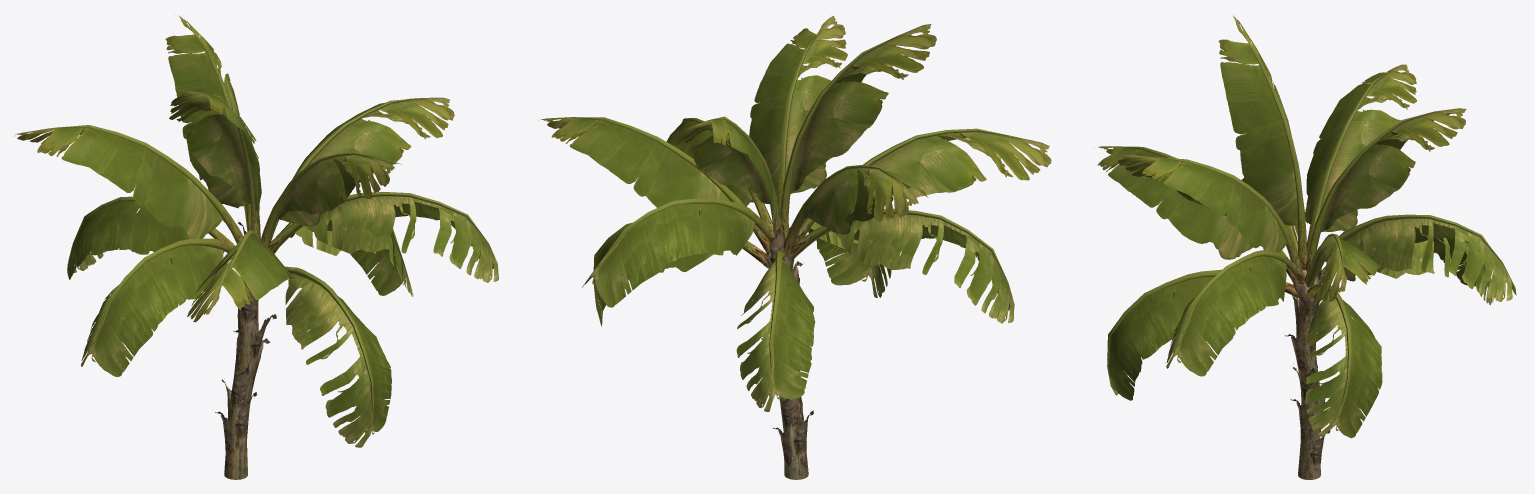
Rendered from tree_banana.glb.
3 renders of one model, left to right at view 1: azimuth 30°, elevation 25°; view 2: azimuth 150°, elevation 25°; view 3: azimuth 270°, elevation 25°, orthographic. The views are drawn at different scales.
Visible parts, largest first — view 1: Tree_1_Tree_1Mat_0, Tree_2_Tree_2Mat_0, Tree_4_Tree_4Mat_0, Tree_3_Tree_3Mat_0, Tree_0_Tree_0Mat_0; view 2: Tree_1_Tree_1Mat_0, Tree_2_Tree_2Mat_0, Tree_4_Tree_4Mat_0, Tree_3_Tree_3Mat_0, Tree_0_Tree_0Mat_0; view 3: Tree_1_Tree_1Mat_0, Tree_2_Tree_2Mat_0, Tree_4_Tree_4Mat_0, Tree_3_Tree_3Mat_0, Tree_0_Tree_0Mat_0.
Part boxes in pixels (left/top/right/bottom): Tree_1_Tree_1Mat_0: left=14, top=15, right=454, bottom=322; Tree_2_Tree_2Mat_0: left=67, top=117, right=498, bottom=447; Tree_4_Tree_4Mat_0: left=54, top=33, right=488, bottom=414; Tree_3_Tree_3Mat_0: left=215, top=220, right=276, bottom=458; Tree_0_Tree_0Mat_0: left=224, top=277, right=258, bottom=479; Tree_1_Tree_1Mat_0: left=541, top=14, right=1051, bottom=234; Tree_2_Tree_2Mat_0: left=582, top=121, right=1014, bottom=411; Tree_4_Tree_4Mat_0: left=573, top=33, right=1011, bottom=376; Tree_3_Tree_3Mat_0: left=755, top=227, right=813, bottom=468; Tree_0_Tree_0Mat_0: left=767, top=252, right=808, bottom=479; Tree_1_Tree_1Mat_0: left=1097, top=15, right=1466, bottom=301; Tree_2_Tree_2Mat_0: left=1107, top=178, right=1516, bottom=438; Tree_4_Tree_4Mat_0: left=1107, top=42, right=1501, bottom=407; Tree_3_Tree_3Mat_0: left=1285, top=247, right=1330, bottom=470; Tree_0_Tree_0Mat_0: left=1293, top=270, right=1320, bottom=479.
Bounding box in the file's own units: 3.11 × 3.1 × 2.94.
Materials: 5 (5 with a texture image).
